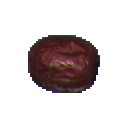gd: (22, 22, 109, 111)
